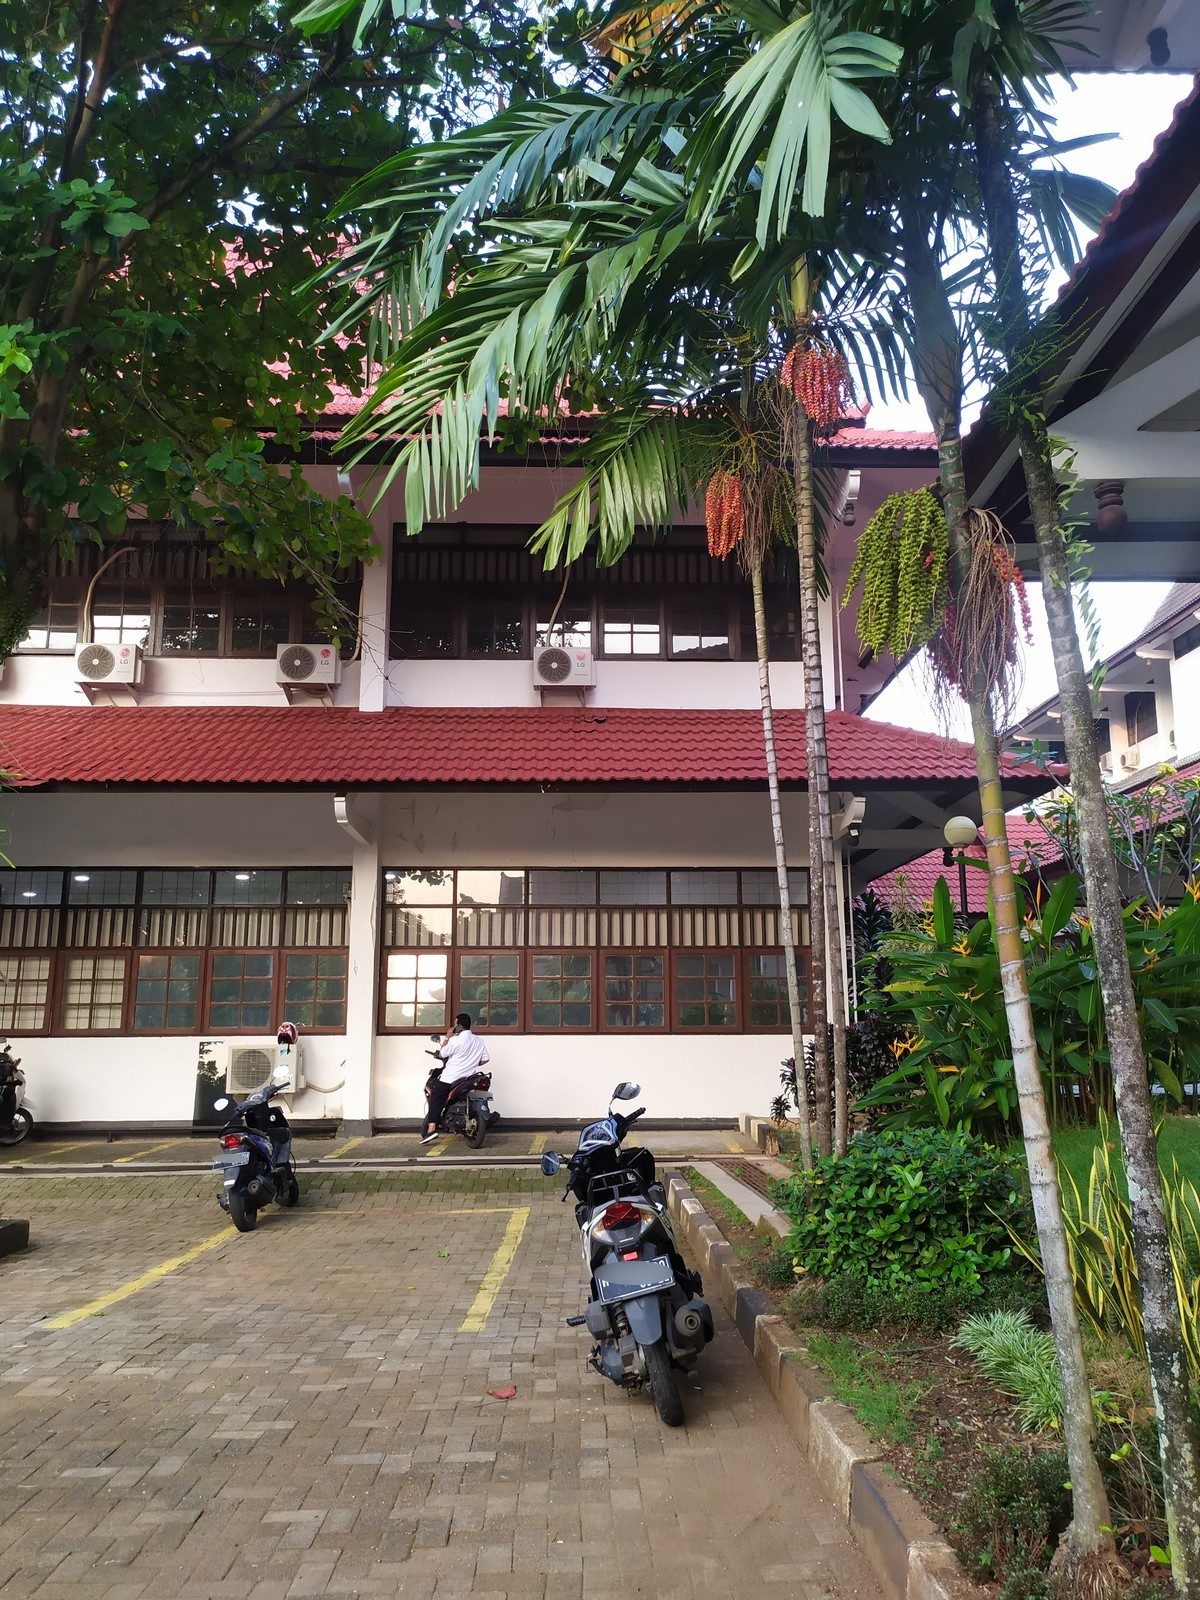concrete column: (337, 816, 389, 1131), (349, 464, 395, 722)
